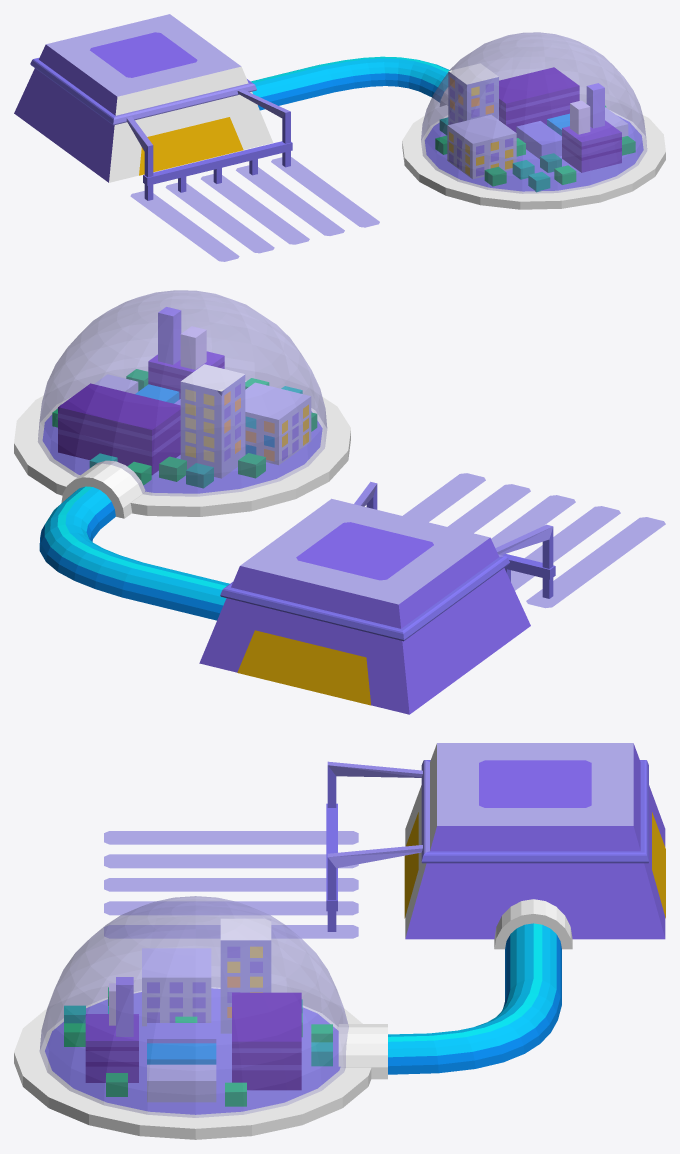
File: Building_03.fbx
The picture shows the model from 3 angles, top to bottom: view 1: azimuth 30°, elevation 25°; view 2: azimuth 150°, elevation 25°; view 3: azimuth 270°, elevation 25°; orthographic projection. The views are drawn at different scales.
Visible parts, largest first — view 1: Building_03; view 2: Building_03; view 3: Building_03.
Boxes of the visible parts, x1,y1,x2,y2 form: Building_03: (14, 14, 665, 261); Building_03: (14, 290, 665, 714); Building_03: (14, 743, 665, 1139).
Size of the model in its own units: 278 by 64.4 by 247.
